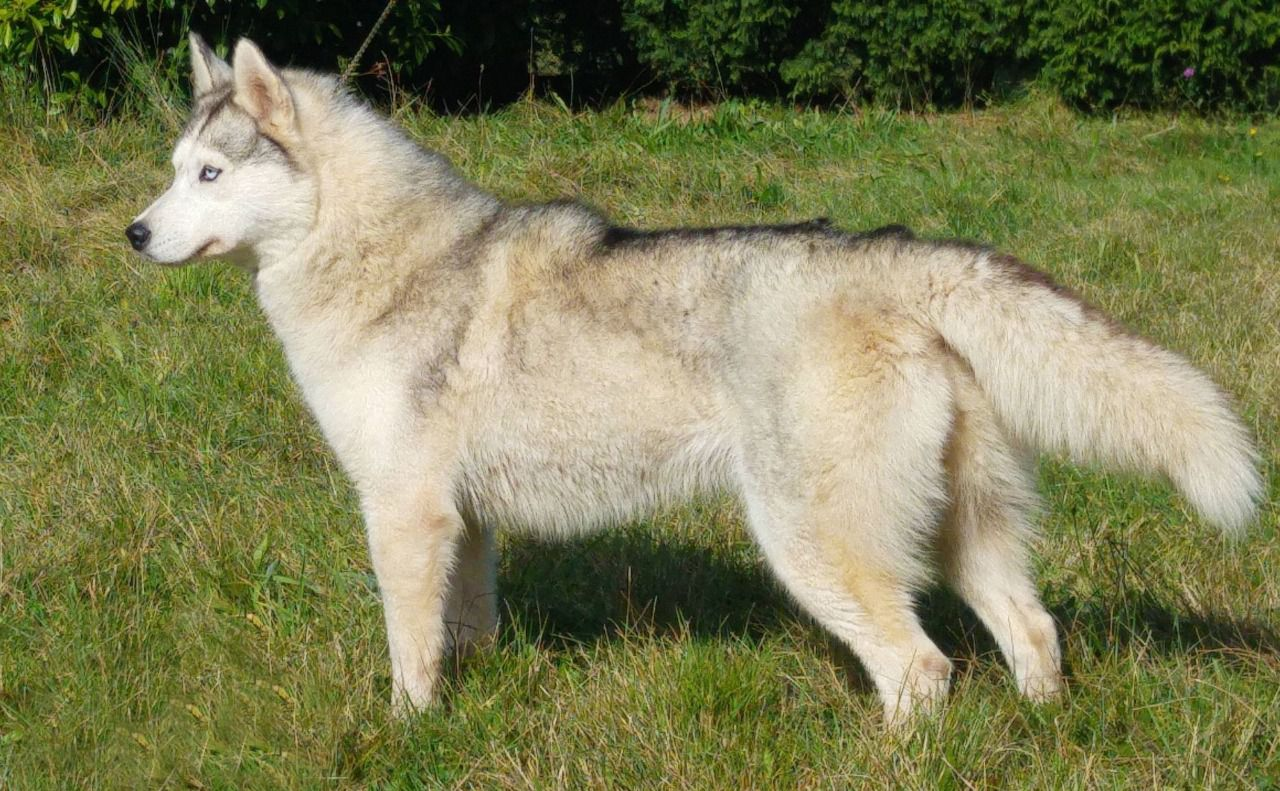husky: (106, 27, 491, 465)
